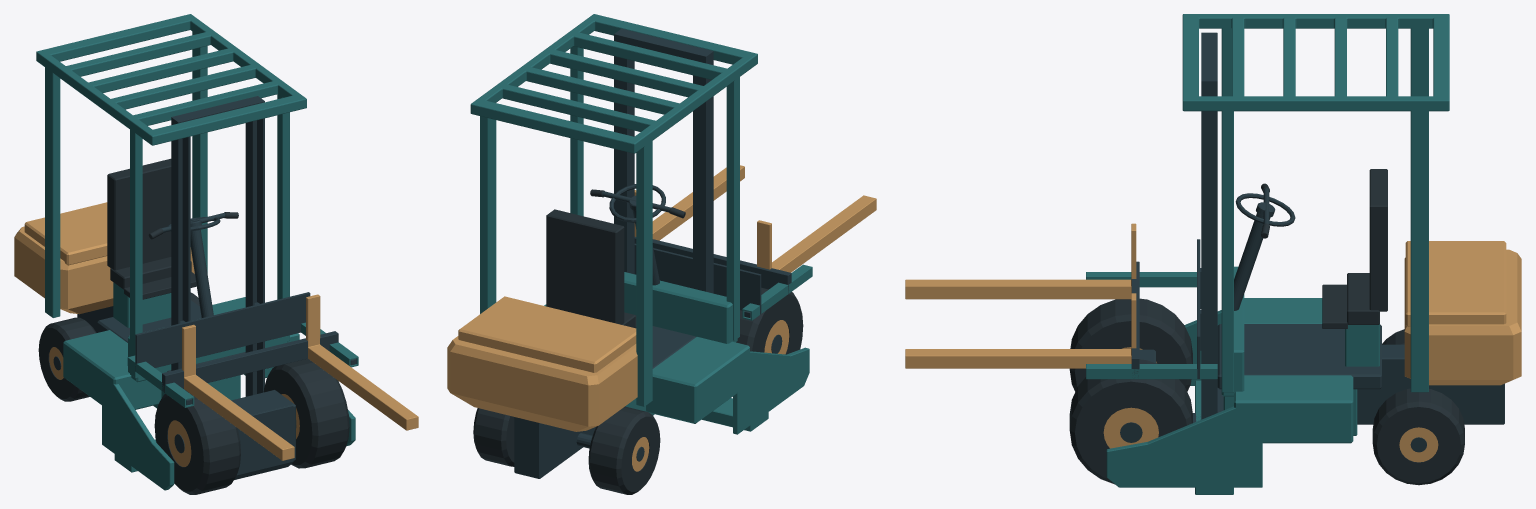
Rendered from forklift-mast-stage.glb.
The picture shows the model from 3 angles, left to right: view 1: azimuth 30°, elevation 25°; view 2: azimuth 150°, elevation 25°; view 3: azimuth 270°, elevation 25°; orthographic projection. The views are drawn at different scales.
Visible parts, largest first — view 1: forklift-mast-stage__batch_01, forklift-mast-stage__batch_00, forklift-mast-stage__batch_02, forklift-mast-stage__batch_23, forklift-mast-stage__batch_03, forklift-mast-stage__batch_22, forklift-mast-stage__batch_19, forklift-mast-stage__batch_06, forklift-mast-stage__batch_05, forklift-mast-stage__batch_04, forklift-mast-stage__batch_11, forklift-mast-stage__batch_08 (+2 smaller); view 2: forklift-mast-stage__batch_01, forklift-mast-stage__batch_02, forklift-mast-stage__batch_00, forklift-mast-stage__batch_23, forklift-mast-stage__batch_11, forklift-mast-stage__batch_05, forklift-mast-stage__batch_03, forklift-mast-stage__batch_19, forklift-mast-stage__batch_14, forklift-mast-stage__batch_06, forklift-mast-stage__batch_04, forklift-mast-stage__batch_08 (+2 smaller); view 3: forklift-mast-stage__batch_01, forklift-mast-stage__batch_00, forklift-mast-stage__batch_02, forklift-mast-stage__batch_22, forklift-mast-stage__batch_14, forklift-mast-stage__batch_19, forklift-mast-stage__batch_23, forklift-mast-stage__batch_05, forklift-mast-stage__batch_06, forklift-mast-stage__batch_08, forklift-mast-stage__batch_21, forklift-mast-stage__batch_16 (+1 smaller).
Boxes of the visible parts, x1,y1,x2,y2 form: forklift-mast-stage__batch_01: [36, 14, 355, 490]; forklift-mast-stage__batch_00: [77, 96, 296, 479]; forklift-mast-stage__batch_02: [14, 202, 194, 314]; forklift-mast-stage__batch_23: [107, 158, 196, 299]; forklift-mast-stage__batch_03: [135, 292, 310, 371]; forklift-mast-stage__batch_22: [263, 358, 349, 468]; forklift-mast-stage__batch_19: [154, 389, 240, 494]; forklift-mast-stage__batch_06: [306, 294, 418, 430]; forklift-mast-stage__batch_05: [182, 324, 294, 460]; forklift-mast-stage__batch_04: [162, 331, 356, 405]; forklift-mast-stage__batch_11: [38, 317, 96, 401]; forklift-mast-stage__batch_08: [127, 322, 358, 407]; forklift-mast-stage__batch_01: [470, 14, 809, 434]; forklift-mast-stage__batch_02: [447, 296, 637, 431]; forklift-mast-stage__batch_00: [514, 28, 713, 478]; forklift-mast-stage__batch_23: [546, 209, 636, 328]; forklift-mast-stage__batch_11: [588, 406, 660, 494]; forklift-mast-stage__batch_05: [757, 195, 876, 272]; forklift-mast-stage__batch_03: [634, 243, 761, 314]; forklift-mast-stage__batch_19: [736, 288, 803, 354]; forklift-mast-stage__batch_14: [473, 408, 514, 466]; forklift-mast-stage__batch_06: [634, 165, 744, 240]; forklift-mast-stage__batch_04: [634, 237, 791, 317]; forklift-mast-stage__batch_08: [742, 264, 812, 320]; forklift-mast-stage__batch_01: [1106, 14, 1449, 494]; forklift-mast-stage__batch_00: [1139, 32, 1504, 424]; forklift-mast-stage__batch_02: [1404, 241, 1521, 385]; forklift-mast-stage__batch_22: [1069, 359, 1192, 484]; forklift-mast-stage__batch_14: [1372, 388, 1464, 485]; forklift-mast-stage__batch_19: [1069, 298, 1192, 391]; forklift-mast-stage__batch_23: [1322, 169, 1387, 328]; forklift-mast-stage__batch_05: [905, 223, 1136, 299]; forklift-mast-stage__batch_06: [905, 293, 1136, 368]; forklift-mast-stage__batch_08: [1086, 272, 1217, 379]; forklift-mast-stage__batch_21: [1103, 407, 1158, 448]; forklift-mast-stage__batch_16: [1235, 188, 1295, 226].
Bounding box in the file's own units: 1.2 × 2.1 × 3.
